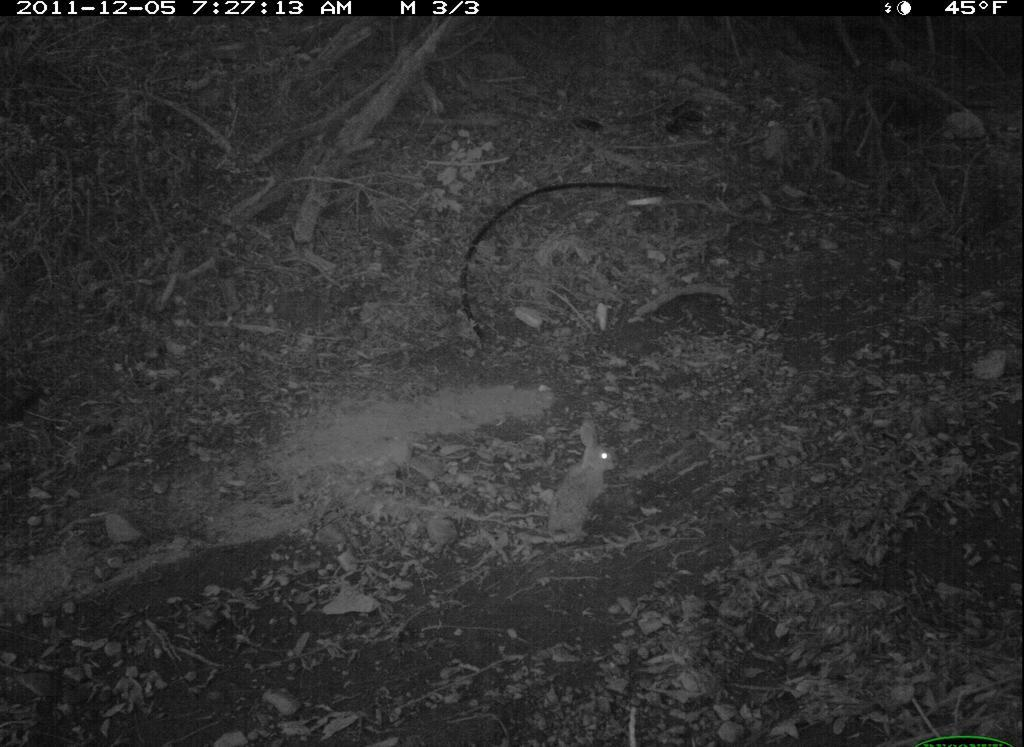rabbit: (542, 415, 624, 551)
